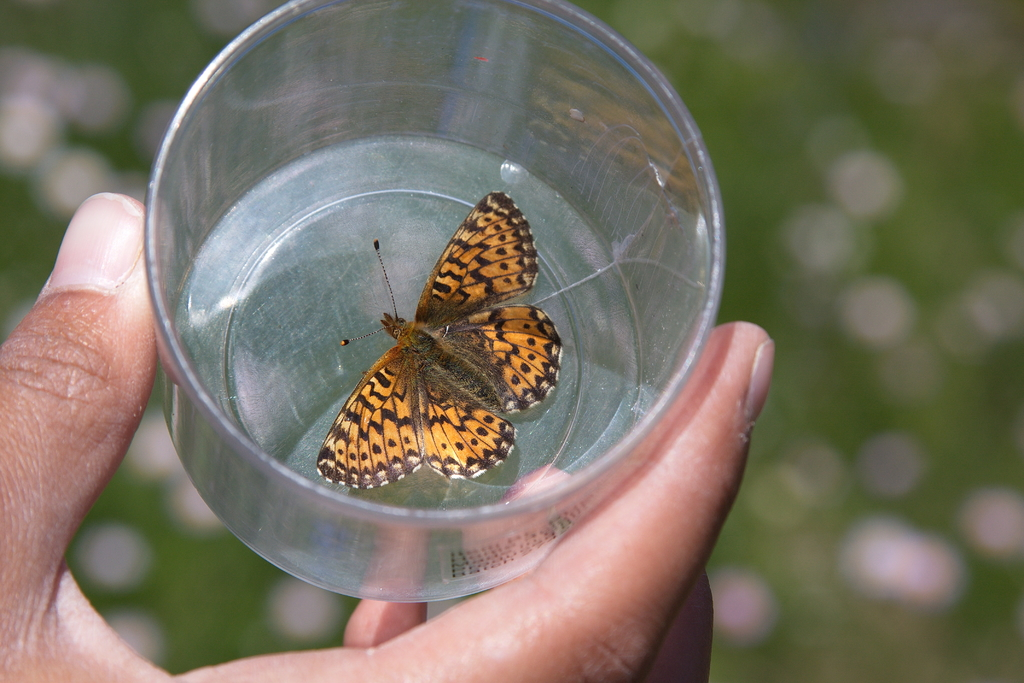Butterfly: (303, 185, 572, 519)
